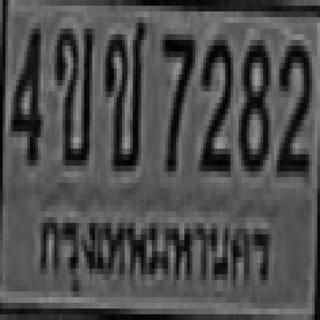A02: (54, 23, 92, 160)
A10: (103, 17, 144, 166)
N02: (274, 40, 309, 172), (198, 34, 230, 166)
N04: (10, 23, 39, 160)
N07: (160, 29, 192, 166)
N08: (237, 34, 267, 166)
P04: (34, 208, 270, 295)
